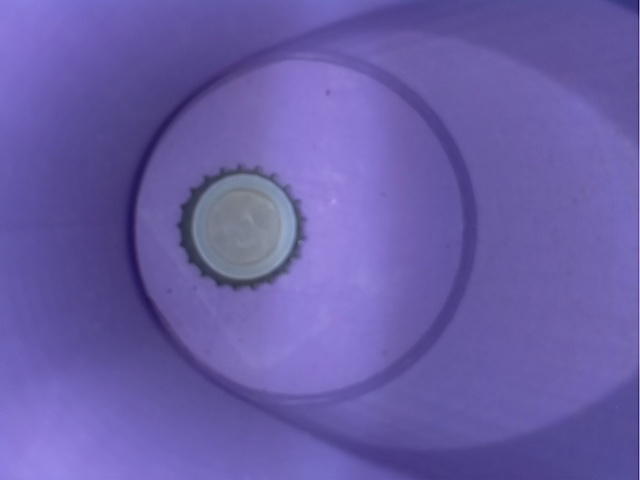capsule: (172, 153, 313, 300)
